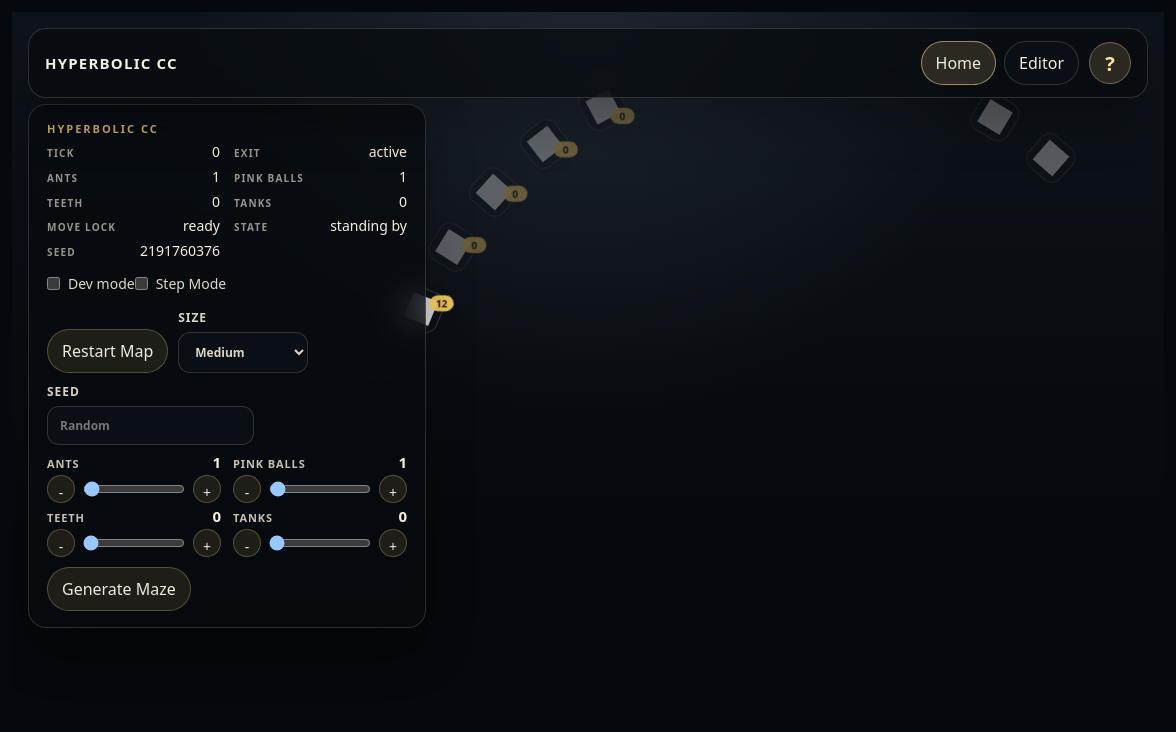
Test: Grid45App editor › rotates the mob brush facing with > without rotating a placed mob
Click the button "Editor" at (1042, 63), box [1004,41,1079,85]
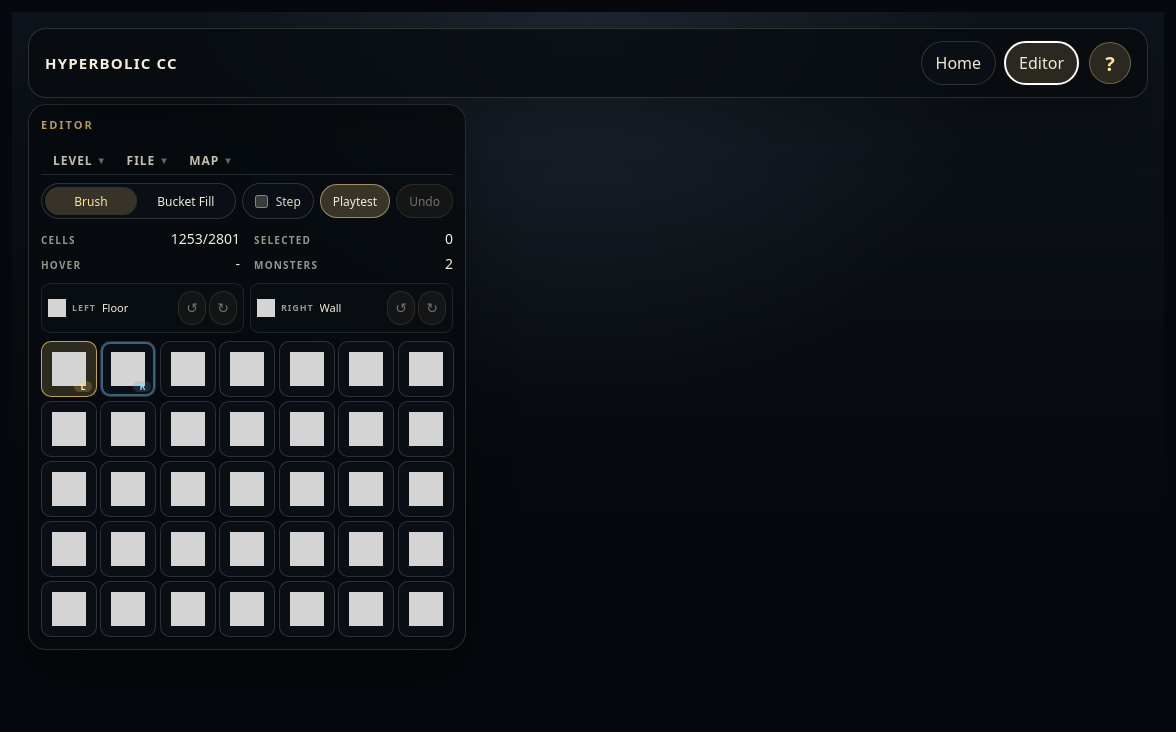
Click the button named "Glider" at (128, 609), box [100,581,156,637]
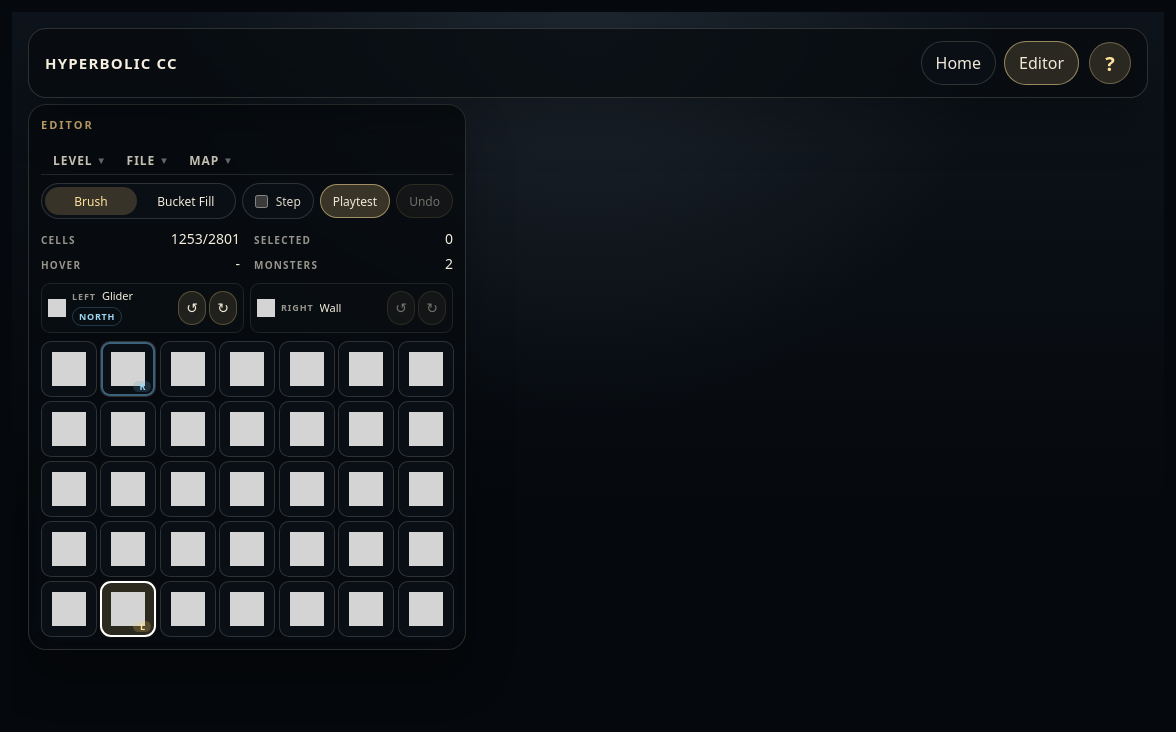
Press the mouse on the drawing at (588, 372), box [12,12,1164,731]
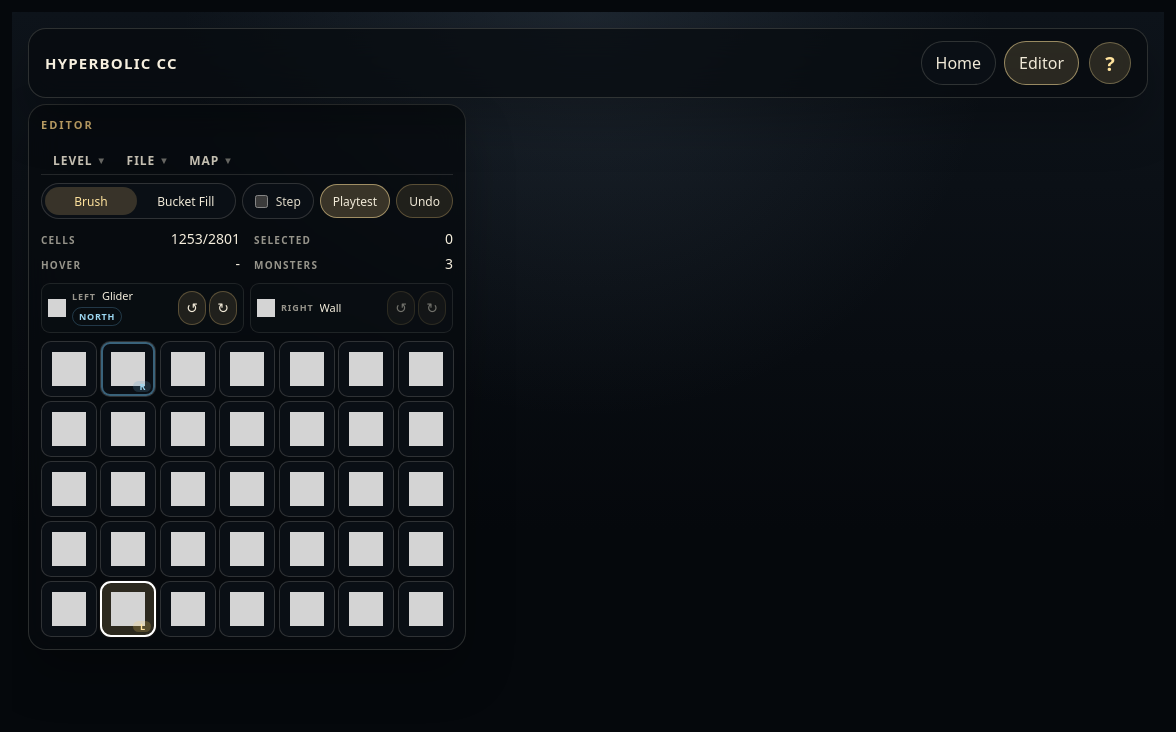
Press >
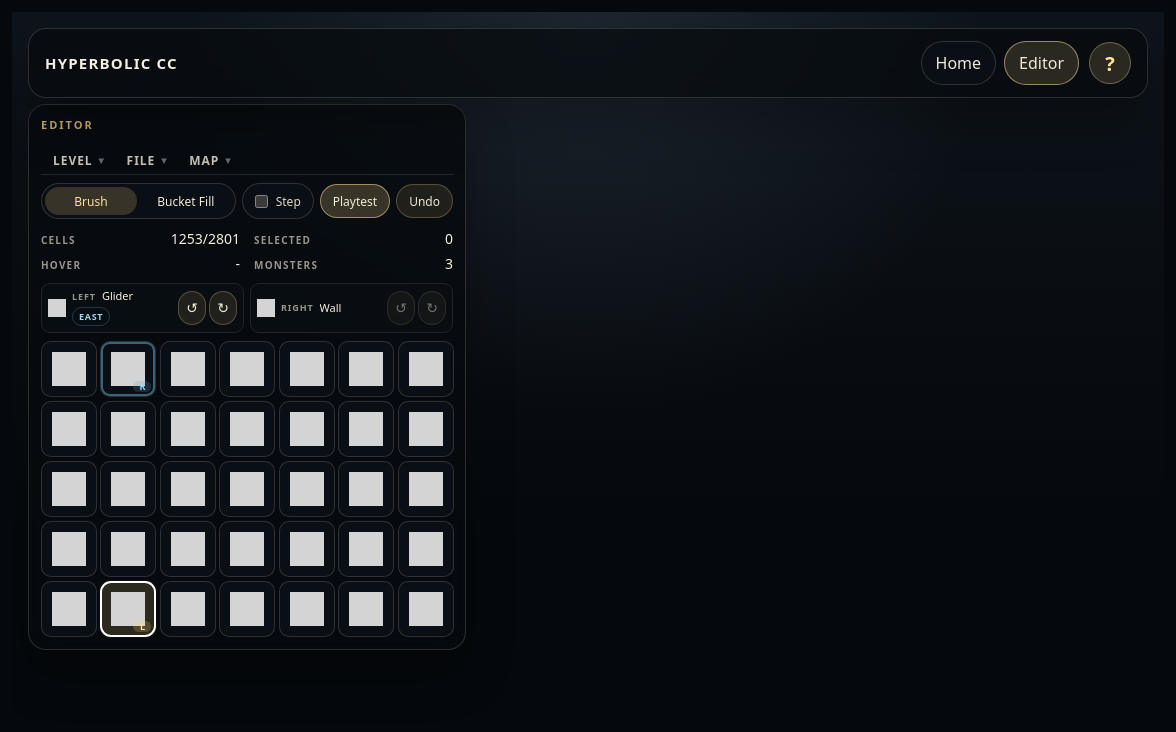
Result: the text with class "grid45BrushFacing" reads "east" at [79,310,103,323]
